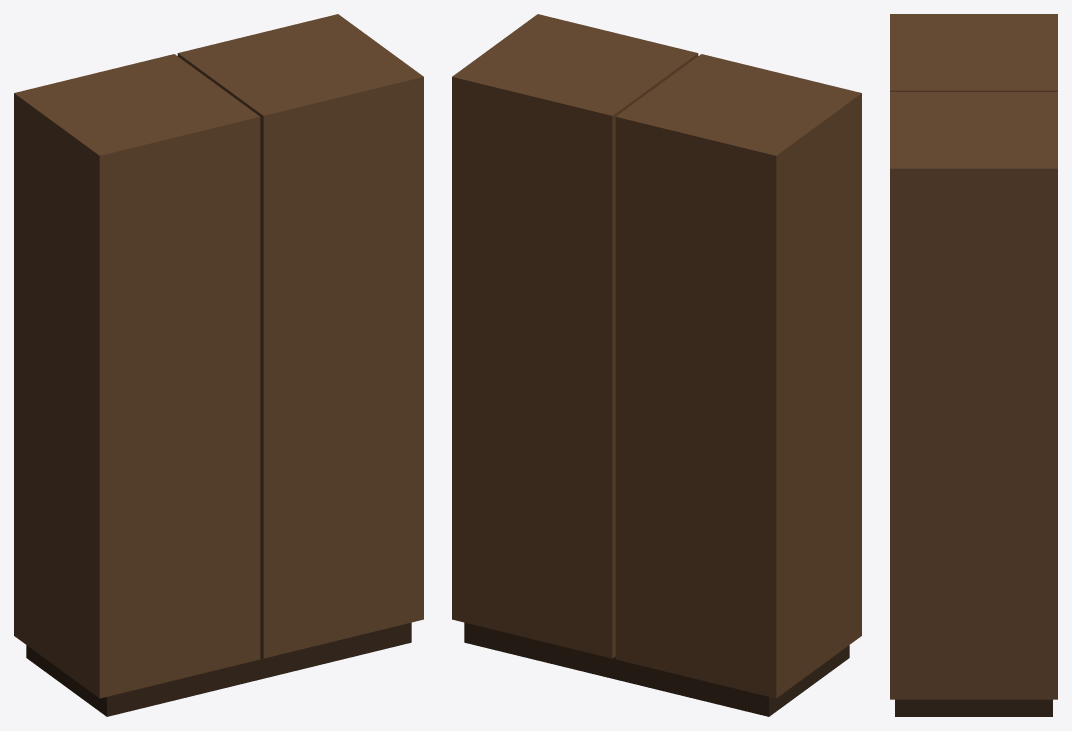
The model's file is wardrobe_two_door.glb.
The picture shows the model from 3 angles, left to right: view 1: azimuth 30°, elevation 25°; view 2: azimuth 150°, elevation 25°; view 3: azimuth 270°, elevation 25°; orthographic projection. The views are drawn at different scales.
Visible parts, largest first — view 1: furniture; view 2: furniture; view 3: furniture.
Part boxes in pixels (left/top/right/bottom): furniture: left=14, top=14, right=423, bottom=716; furniture: left=452, top=14, right=861, bottom=716; furniture: left=890, top=14, right=1057, bottom=716.
Bounding box in the file's own units: 1.2 × 2 × 0.55.
